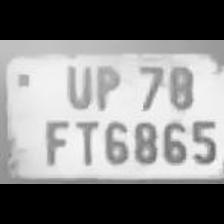5: (188, 116, 218, 166)
6: (99, 116, 129, 166), (159, 116, 187, 166)
7: (130, 61, 164, 112)
8: (163, 60, 195, 110), (130, 116, 158, 166)
F: (38, 114, 72, 168)
P: (90, 61, 124, 111)
T: (69, 114, 99, 168)
U: (61, 58, 94, 110)
